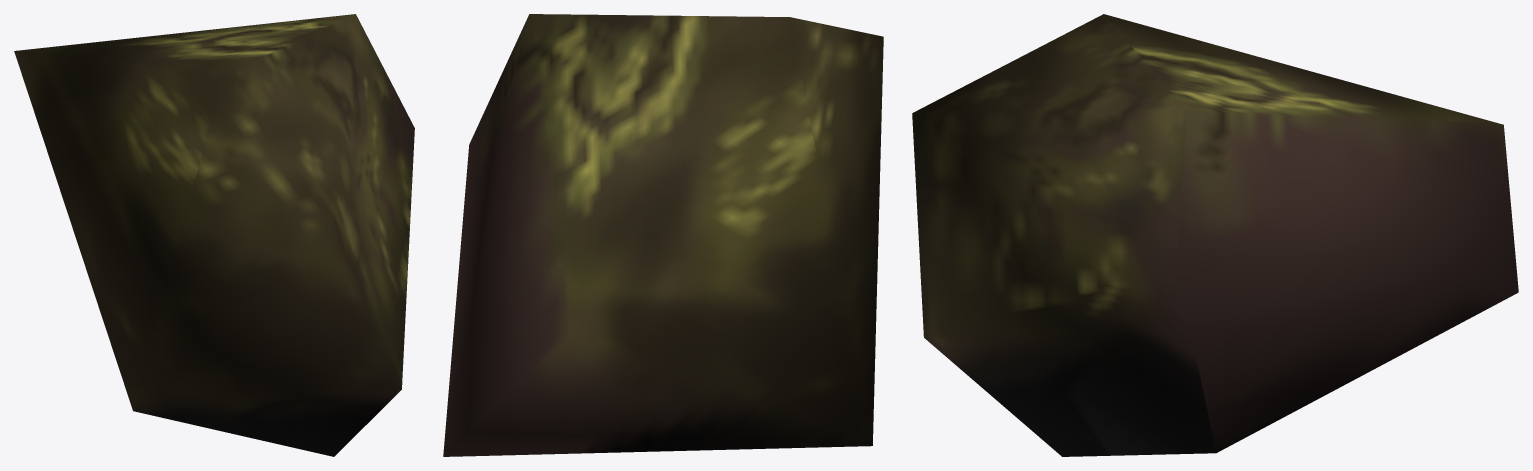
Rendered from SM_RockLagoon_10.fbx.
3 views of the same model, side by side, from view 1: azimuth 30°, elevation 25°; view 2: azimuth 150°, elevation 25°; view 3: azimuth 270°, elevation 25° (orthographic). The views are drawn at different scales.
Parts seen in each view (by area): view 1: Esfera geodésica; view 2: Esfera geodésica; view 3: Esfera geodésica.
Part boxes in pixels (x1,y1,x2,y2): Esfera geodésica: (14, 14, 414, 456); Esfera geodésica: (443, 14, 883, 456); Esfera geodésica: (912, 14, 1518, 456).
Size of the model in its own units: 1.6 by 1.94 by 2.69.
Materials: 1 (1 with a texture image).
